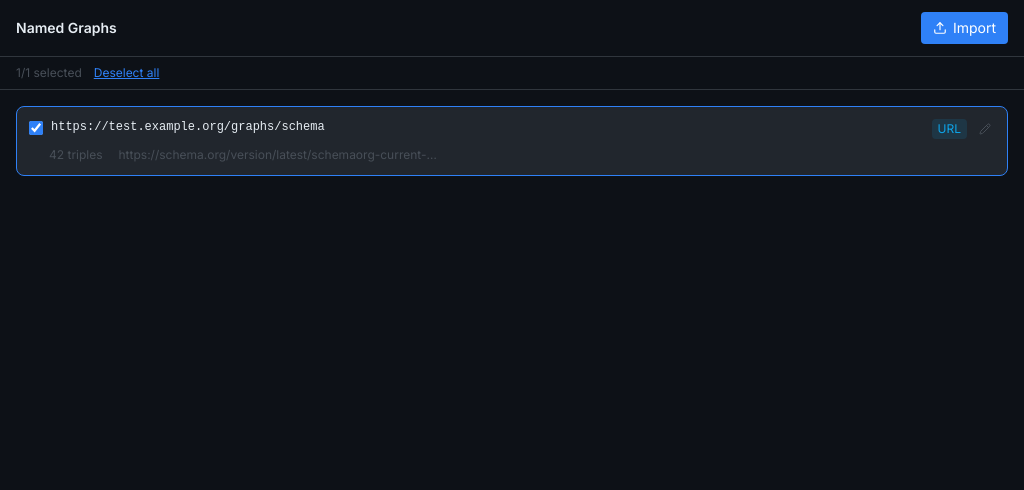
Test: NamedGraphList › clicking edit button opens TTL editor panel
Click the button titled "Edit TTL": (985, 129) [975, 119, 995, 139]
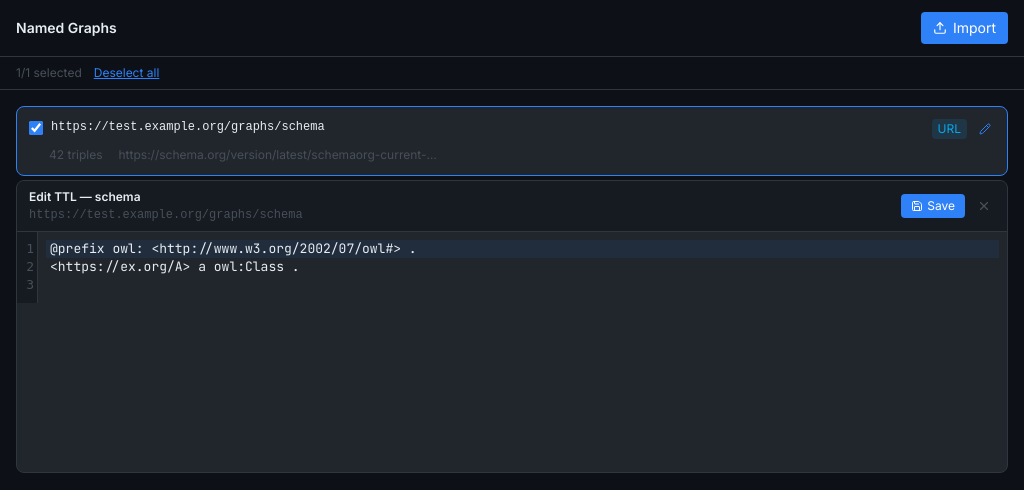
Check: the text "Edit TTL — schema" is shown, box [29, 189, 141, 204]
